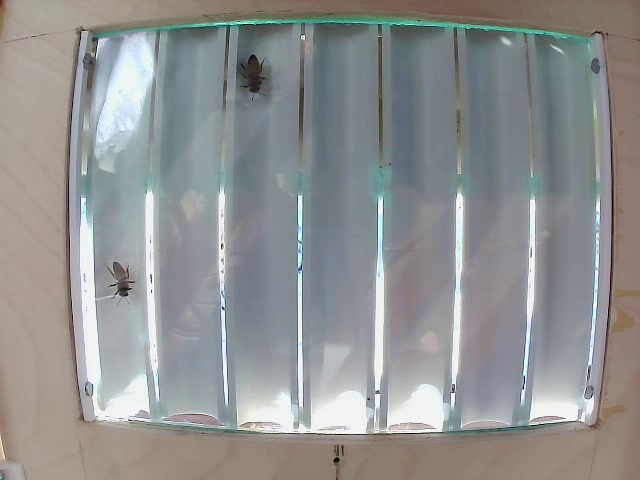bee: (102, 254, 146, 297), (240, 51, 267, 93)
